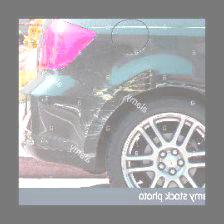bumper_scratch: (26, 81, 134, 174)
